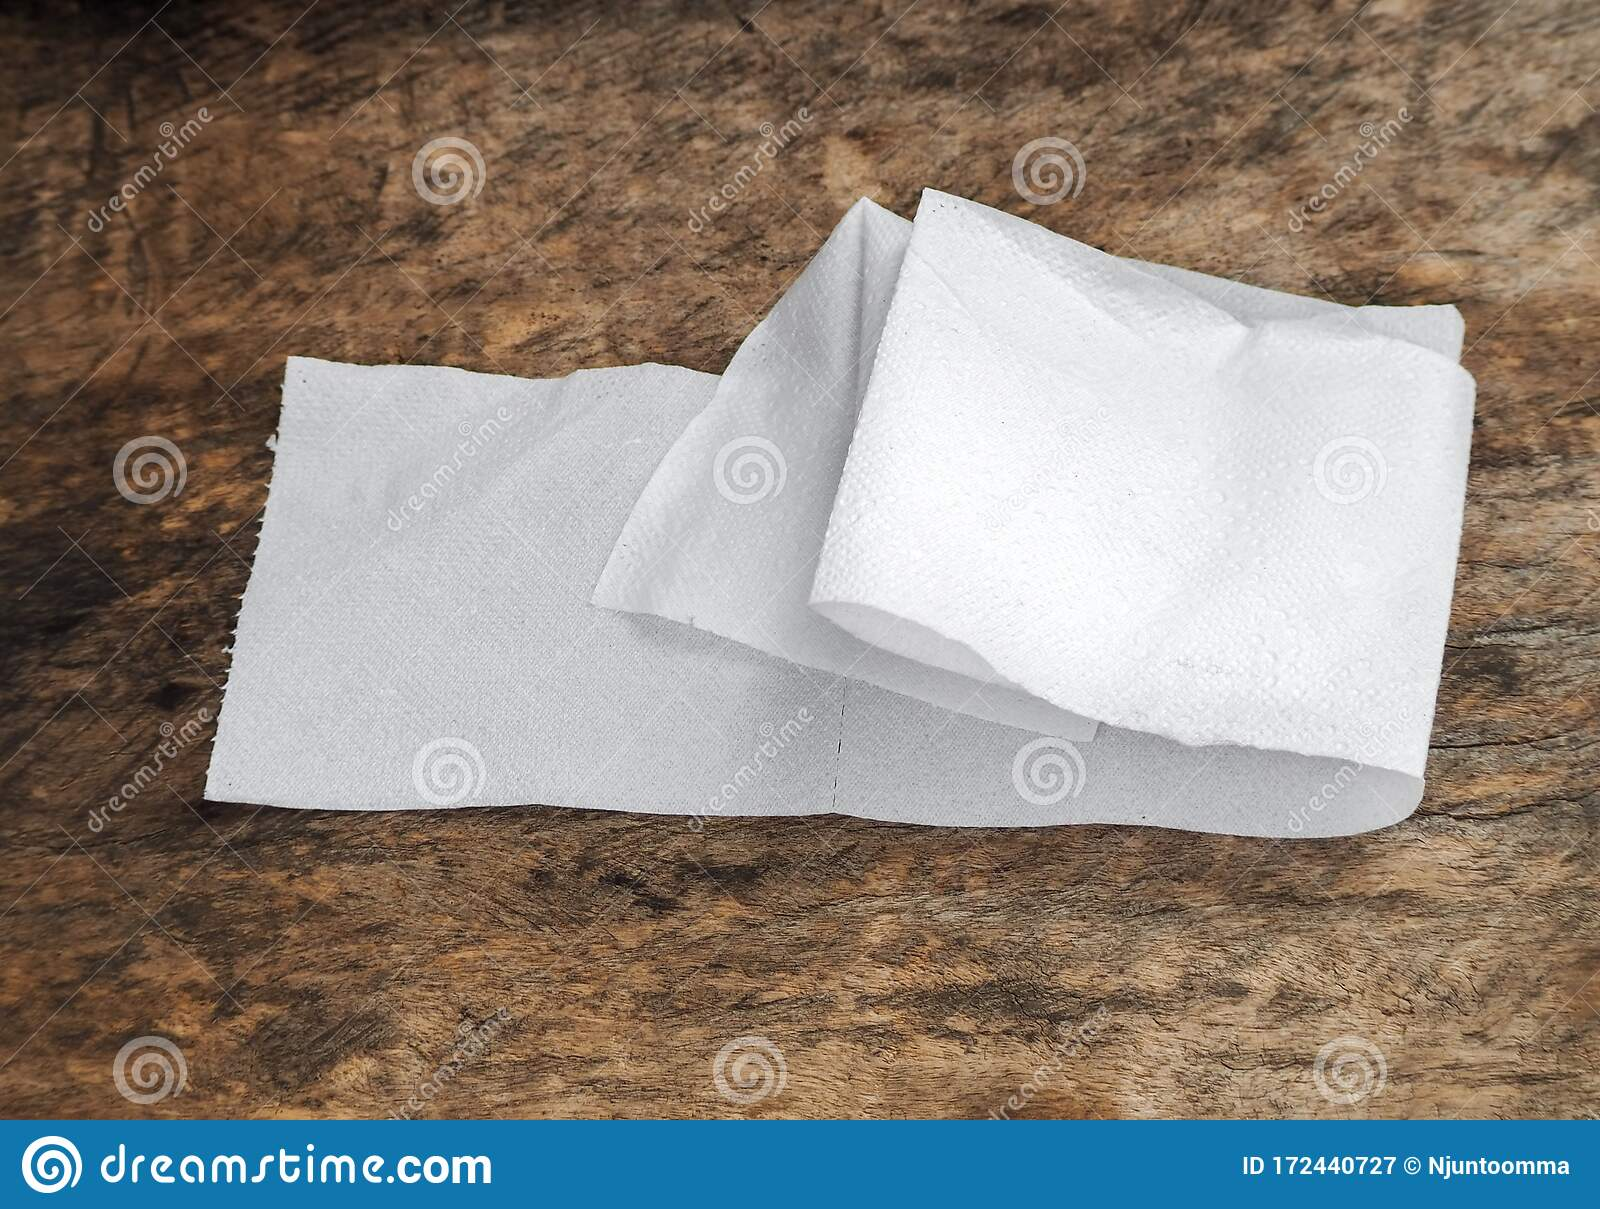Tissue: (196, 184, 1483, 856)
